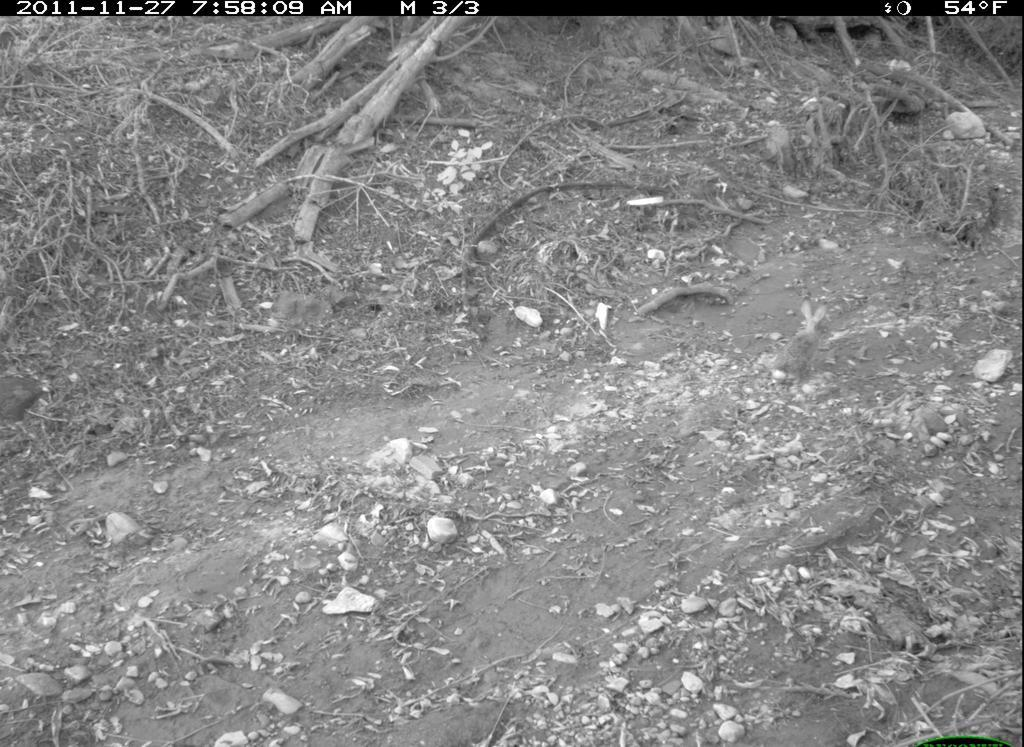rabbit: (765, 292, 835, 396)
